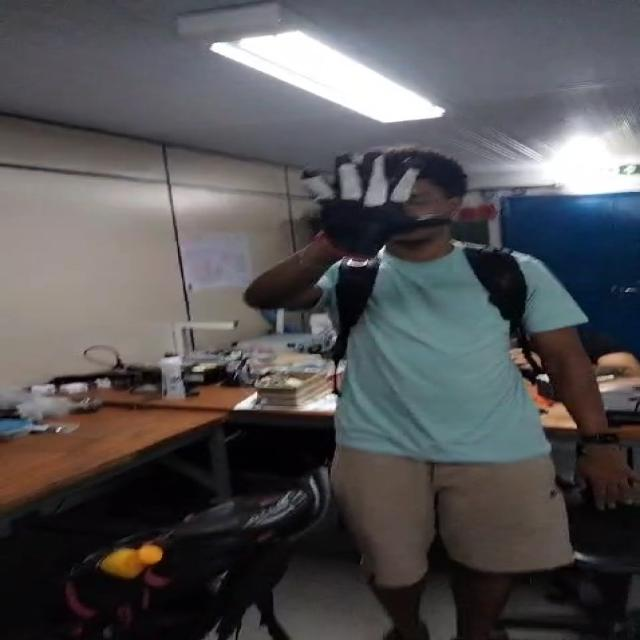Gloves: (298, 149, 438, 258)
